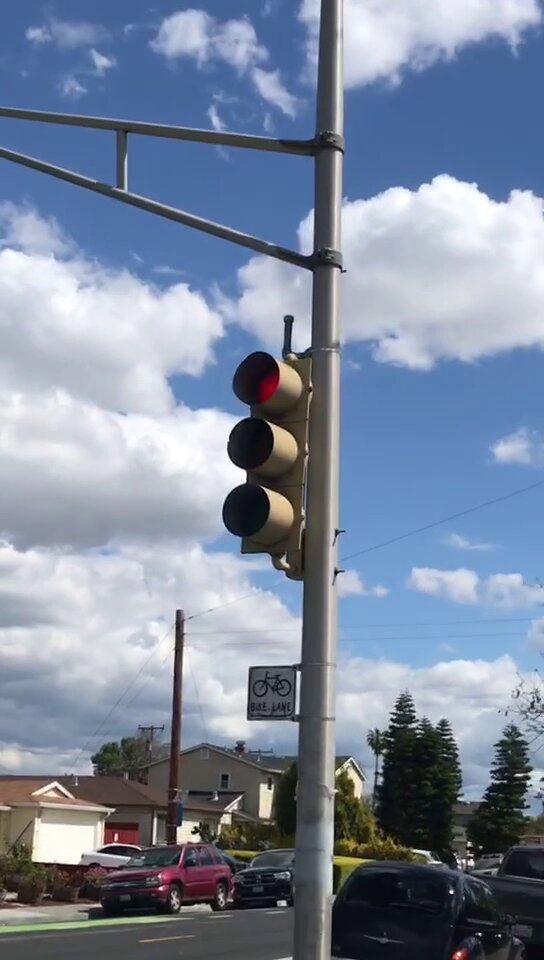red_light: (231, 353, 279, 547)
